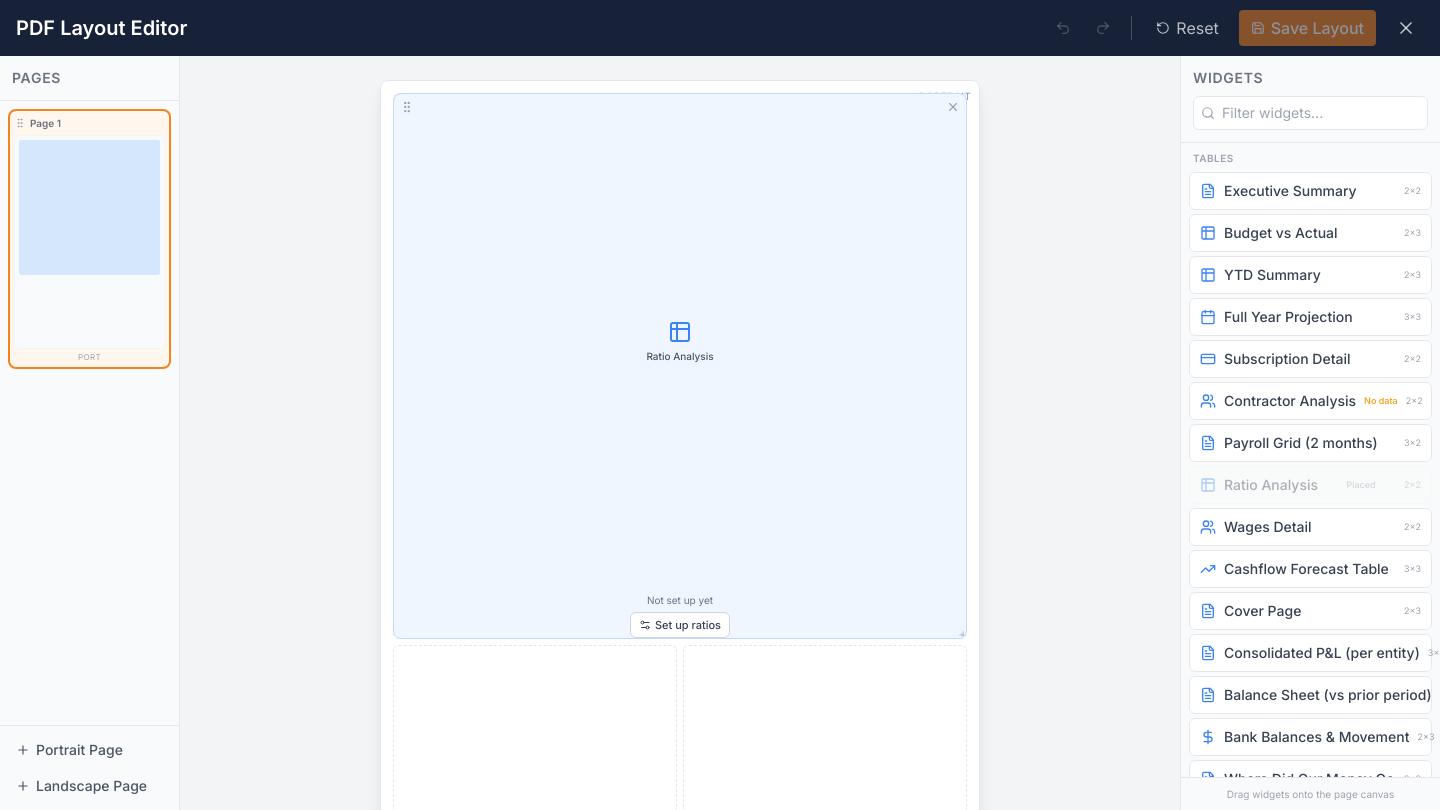
opening the panel › an unconfigured placement says so, and its labelled button opens the settings
Check: the text "Not set up yet" is shown, box [647,592,713,608]
Click the button "Set up ratios".
click(680, 625)  # box [630,612,730,638]
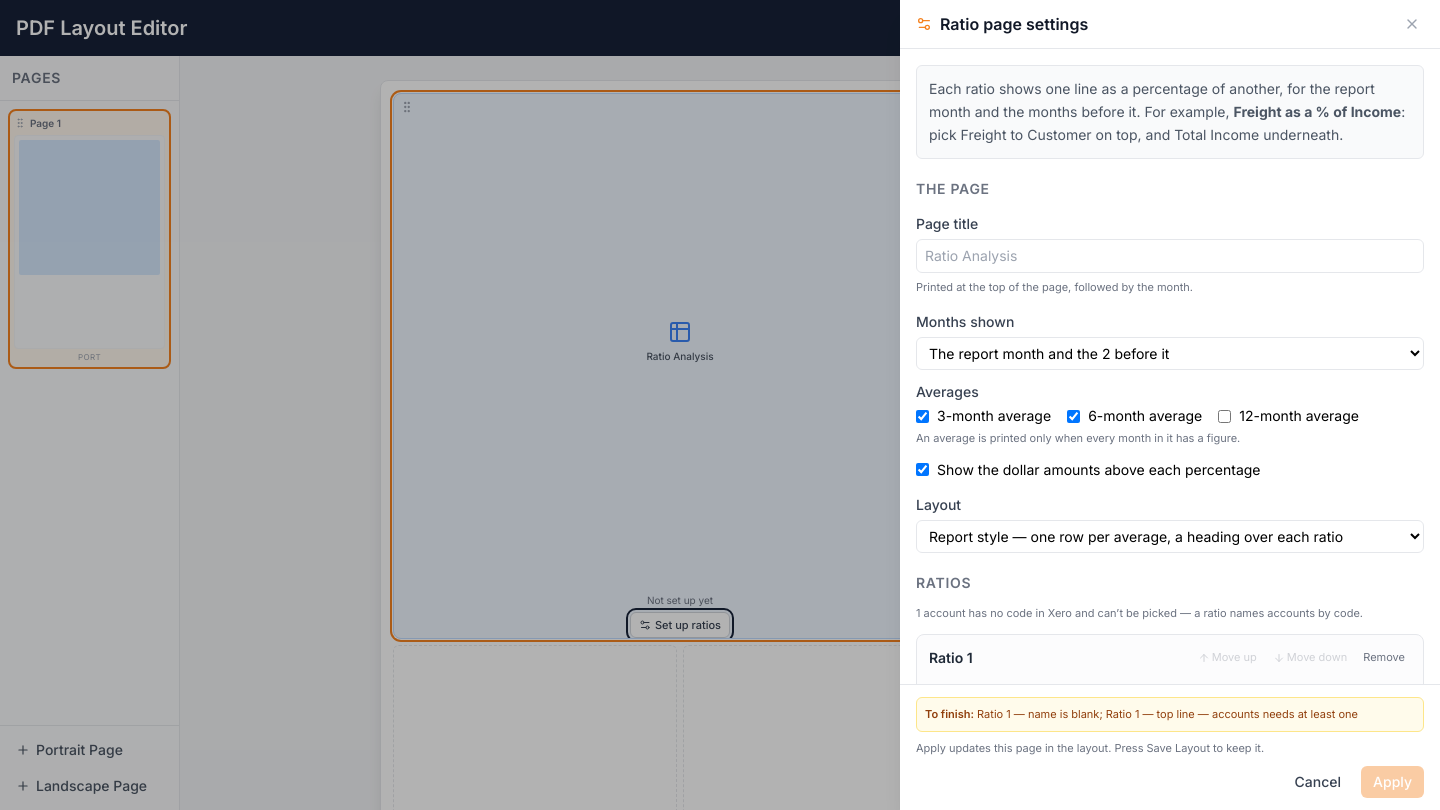
Check: the dialog "Ratio page settings" is shown, box [900,0,1439,809]
